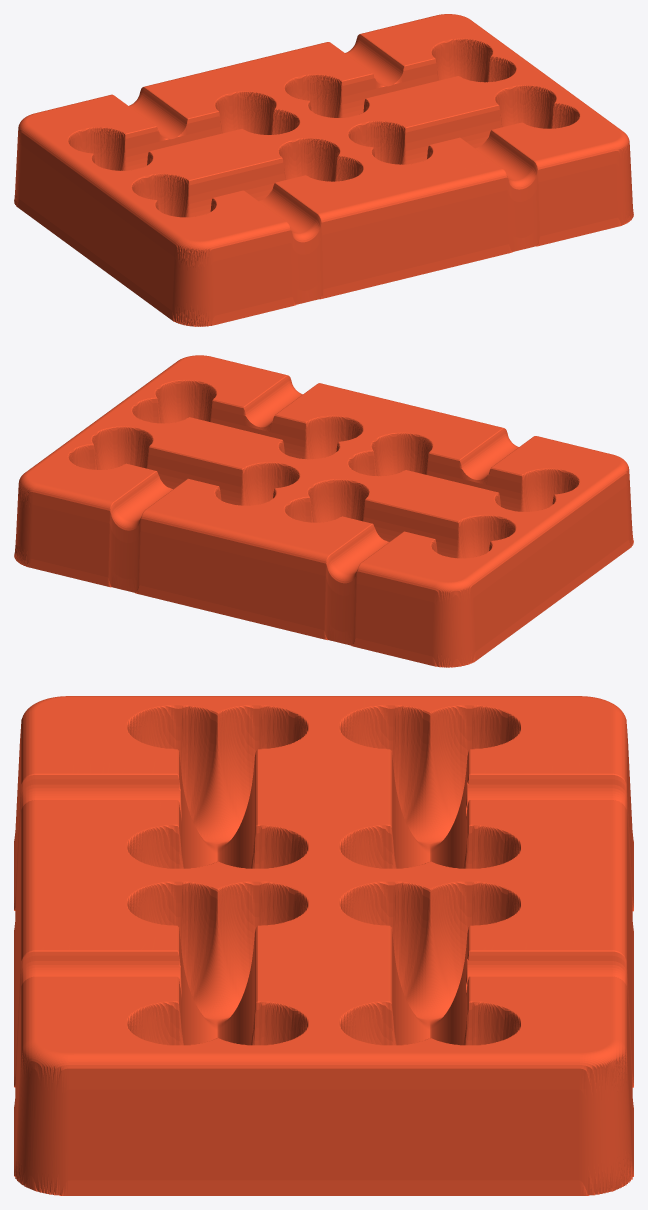
The model's file is mold.glb.
3 views of the same model, one above another, from view 1: azimuth 30°, elevation 25°; view 2: azimuth 150°, elevation 25°; view 3: azimuth 270°, elevation 25° (orthographic). The views are drawn at different scales.
Visible parts, largest first — view 1: geometry_0; view 2: geometry_0; view 3: geometry_0.
Boxes of the visible parts, left/top/right/bottom form: geometry_0: left=14, top=14, right=633, bottom=326; geometry_0: left=14, top=355, right=633, bottom=667; geometry_0: left=14, top=696, right=633, bottom=1195.
Bounding box in the file's own units: 0.1468 × 0.0245 × 0.1029.
